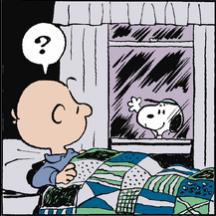charlie: (10, 77, 92, 191)
snoopy: (125, 95, 183, 139)
